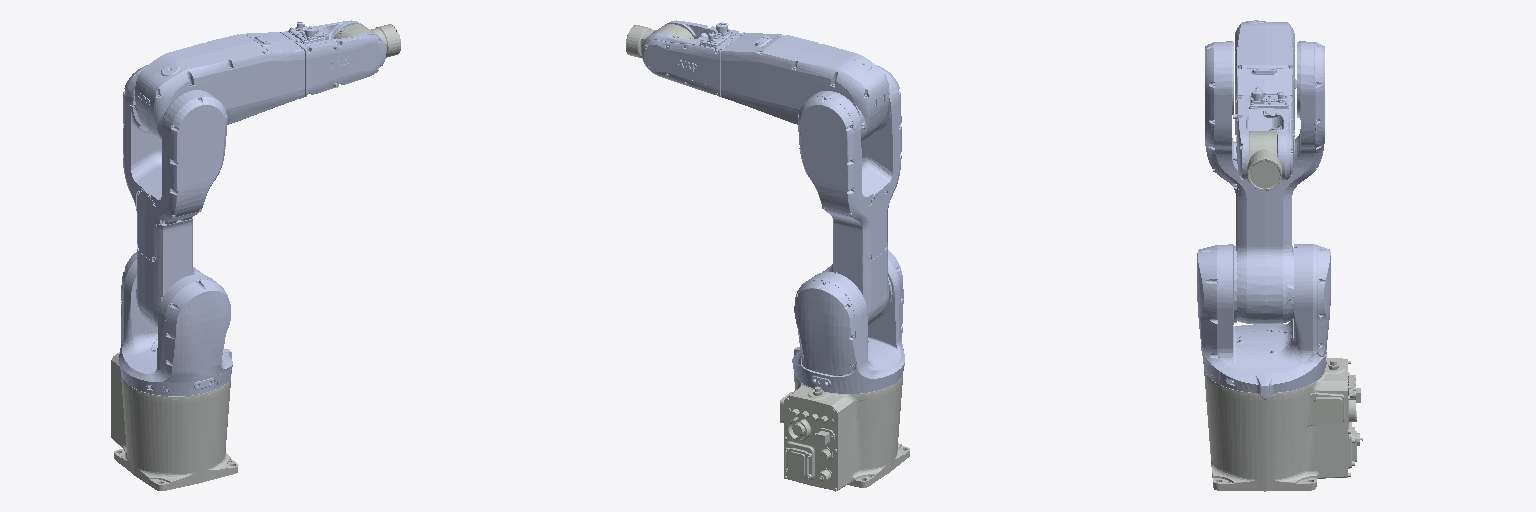
robot.urdf — Robot_arm_URDF:
<?xml version="1.0" encoding="utf-8"?>
<!-- This URDF was automatically created by SolidWorks to URDF Exporter! Originally created by [author] ([email redacted]) 
     Commit Version: 1.6.0-4-g7f85cfe  Build Version: 1.6.7995.38578
     For more information, please see http://wiki.ros.org/sw_urdf_exporter -->
<robot
  name="Robot_arm_URDF">
  <link
    name="base_link">
    <inertial>
      <origin
        xyz="0.00047544 0.023635 0.11219"
        rpy="0 0 0" />
      <mass
        value="10.645" />
      <inertia
        ixx="0.099513"
        ixy="-0.00055015"
        ixz="-0.00016335"
        iyy="0.073792"
        iyz="0.0006449"
        izz="0.088938" />
    </inertial>
    <visual>
      <origin
        xyz="0 0 0"
        rpy="0 0 0" />
      <geometry>
        <mesh
          filename="package://Robot_arm_URDF/meshes/base_link.STL" />
      </geometry>
      <material
        name="">
        <color
          rgba="0.78431 0.8 0.78824 1" />
      </material>
    </visual>
    <collision>
      <origin
        xyz="0 0 0"
        rpy="0 0 0" />
      <geometry>
        <mesh
          filename="package://Robot_arm_URDF/meshes/base_link.STL" />
      </geometry>
    </collision>
  </link>
  <link
    name="Link_1">
    <inertial>
      <origin
        xyz="-0.0034017 0.078027 0.00019599"
        rpy="0 0 0" />
      <mass
        value="6.0468" />
      <inertia
        ixx="0.075561"
        ixy="0.00050896"
        ixz="4.1498E-05"
        iyy="0.055106"
        iyz="-0.00020684"
        izz="0.047881" />
    </inertial>
    <visual>
      <origin
        xyz="0 0 0"
        rpy="0 0 0" />
      <geometry>
        <mesh
          filename="package://Robot_arm_URDF/meshes/Link_1.STL" />
      </geometry>
      <material
        name="">
        <color
          rgba="0.79216 0.81961 0.93333 1" />
      </material>
    </visual>
    <collision>
      <origin
        xyz="0 0 0"
        rpy="0 0 0" />
      <geometry>
        <mesh
          filename="package://Robot_arm_URDF/meshes/Link_1.STL" />
      </geometry>
    </collision>
  </link>
  <joint
    name="Joint_1"
    type="revolute">
    <origin
      xyz="0 0 0.3991"
      rpy="-1.5707963267949 0 0" />
    <parent
      link="base_link" />
    <child
      link="Link_1" />
    <axis
      xyz="0 -1 0" />
    <limit
      lower="0"
      upper="3.142"
      effort="300"
      velocity="3" />
  </joint>
  <link
    name="Link_2">
    <inertial>
      <origin
        xyz="-0.012333 -0.21848 -0.001159"
        rpy="0 0 0" />
      <mass
        value="7.9736" />
      <inertia
        ixx="0.26696"
        ixy="0.0010804"
        ixz="5.9822E-05"
        iyy="0.043195"
        iyz="-0.00034187"
        izz="0.24472" />
    </inertial>
    <visual>
      <origin
        xyz="0 0 0"
        rpy="0 0 0" />
      <geometry>
        <mesh
          filename="package://Robot_arm_URDF/meshes/Link_2.STL" />
      </geometry>
      <material
        name="">
        <color
          rgba="0.79216 0.81961 0.93333 1" />
      </material>
    </visual>
    <collision>
      <origin
        xyz="0 0 0"
        rpy="0 0 0" />
      <geometry>
        <mesh
          filename="package://Robot_arm_URDF/meshes/Link_2.STL" />
      </geometry>
    </collision>
  </link>
  <joint
    name="Joint_2"
    type="revolute">
    <origin
      xyz="0 0 0"
      rpy="0 0 0" />
    <parent
      link="Link_1" />
    <child
      link="Link_2" />
    <axis
      xyz="0 0 1" />
    <limit
      lower="-1.57"
      upper="1.57"
      effort="200"
      velocity="3" />
  </joint>
  <link
    name="Link_3">
    <inertial>
      <origin
        xyz="0.035029 0.098118 0.00020435"
        rpy="0 0 0" />
      <mass
        value="6.4014" />
      <inertia
        ixx="0.072094"
        ixy="-0.0052118"
        ixz="4.3691E-05"
        iyy="0.020366"
        iyz="0.00012344"
        izz="0.078298" />
    </inertial>
    <visual>
      <origin
        xyz="0 0 0"
        rpy="0 0 0" />
      <geometry>
        <mesh
          filename="package://Robot_arm_URDF/meshes/Link_3.STL" />
      </geometry>
      <material
        name="">
        <color
          rgba="0.79216 0.81961 0.93333 1" />
      </material>
    </visual>
    <collision>
      <origin
        xyz="0 0 0"
        rpy="0 0 0" />
      <geometry>
        <mesh
          filename="package://Robot_arm_URDF/meshes/Link_3.STL" />
      </geometry>
    </collision>
  </link>
  <joint
    name="Joint_3"
    type="revolute">
    <origin
      xyz="0 -0.448 0"
      rpy="0 0 -1.5708" />
    <parent
      link="Link_2" />
    <child
      link="Link_3" />
    <axis
      xyz="0 0 -1" />
    <limit
      lower="0"
      upper="3.142"
      effort="200"
      velocity="3" />
  </joint>
  <link
    name="Link_4">
    <inertial>
      <origin
        xyz="0.0010953 -0.0016275 0.35925"
        rpy="0 0 0" />
      <mass
        value="1.7965" />
      <inertia
        ixx="0.0078911"
        ixy="1.2653E-06"
        ixz="6.0584E-05"
        iyy="0.0073524"
        iyz="0.00017516"
        izz="0.0037469" />
    </inertial>
    <visual>
      <origin
        xyz="0 0 0"
        rpy="0 0 0" />
      <geometry>
        <mesh
          filename="package://Robot_arm_URDF/meshes/Link_4.STL" />
      </geometry>
      <material
        name="">
        <color
          rgba="0.79216 0.81961 0.93333 1" />
      </material>
    </visual>
    <collision>
      <origin
        xyz="0 0 0"
        rpy="0 0 0" />
      <geometry>
        <mesh
          filename="package://Robot_arm_URDF/meshes/Link_4.STL" />
      </geometry>
    </collision>
  </link>
  <joint
    name="Joint_4"
    type="revolute">
    <origin
      xyz="0.041973 0 0"
      rpy="-1.5708 0 0" />
    <parent
      link="Link_3" />
    <child
      link="Link_4" />
    <axis
      xyz="0 0 -1" />
    <limit
      lower="0"
      upper="3.142"
      effort="200"
      velocity="3" />
  </joint>
  <link
    name="Link_5">
    <inertial>
      <origin
        xyz="5.4911E-05 0.017848 -0.0024285"
        rpy="0 0 0" />
      <mass
        value="0.57863" />
      <inertia
        ixx="0.00099796"
        ixy="1.443E-06"
        ixz="-5.6356E-07"
        iyy="0.00044316"
        iyz="-2.259E-05"
        izz="0.0011373" />
    </inertial>
    <visual>
      <origin
        xyz="0 0 0"
        rpy="0 0 0" />
      <geometry>
        <mesh
          filename="package://Robot_arm_URDF/meshes/Link_5.STL" />
      </geometry>
      <material
        name="">
        <color
          rgba="0.78039 0.8 0.78824 1" />
      </material>
    </visual>
    <collision>
      <origin
        xyz="0 0 0"
        rpy="0 0 0" />
      <geometry>
        <mesh
          filename="package://Robot_arm_URDF/meshes/Link_5.STL" />
      </geometry>
    </collision>
  </link>
  <joint
    name="Joint_5"
    type="revolute">
    <origin
      xyz="0 1.3927E-05 0.451"
      rpy="1.5708 0.0061324 0" />
    <parent
      link="Link_4" />
    <child
      link="Link_5" />
    <axis
      xyz="0 0 -1" />
    <limit
      lower="0"
      upper="-3.142"
      effort="200"
      velocity="3" />
  </joint>
</robot>

--- Render facts (derived) ---
3 views of the same robot in one strip: view 1: azimuth 30°, elevation 25°; view 2: azimuth 150°, elevation 25°; view 3: azimuth 270°, elevation 25° (orthographic).
Model Robot_arm_URDF with 6 links and 5 joints (5 revolute), rooted at base_link, posed every joint at zero.
Links seen in each view (by area): view 1: Link_2, Link_1, Link_3, base_link, Link_4, Link_5; view 2: Link_2, Link_1, base_link, Link_3, Link_4, Link_5; view 3: Link_2, base_link, Link_1, Link_3, Link_4, Link_5.
Boxes of the visible links, x1,y1,x2,y2 form: Link_2: (123, 65, 227, 328); Link_1: (119, 252, 232, 395); Link_3: (134, 32, 304, 140); base_link: (111, 352, 238, 490); Link_4: (280, 20, 386, 96); Link_5: (334, 24, 400, 57); Link_2: (798, 65, 901, 325); Link_1: (792, 250, 904, 393); base_link: (780, 374, 909, 491); Link_3: (721, 33, 889, 141); Link_4: (641, 20, 744, 96); Link_5: (626, 24, 694, 57); Link_2: (1205, 41, 1324, 323); base_link: (1204, 358, 1362, 491); Link_1: (1197, 244, 1330, 396); Link_3: (1235, 20, 1296, 134); Link_4: (1233, 86, 1294, 180); Link_5: (1247, 128, 1281, 190).
Bounding box of the posed robot: 0.666 × 0.3259 × 0.9776 m (x, y, z).
Meshes: 6 distinct files referenced, 6 mesh visuals loaded (6 binary STL).